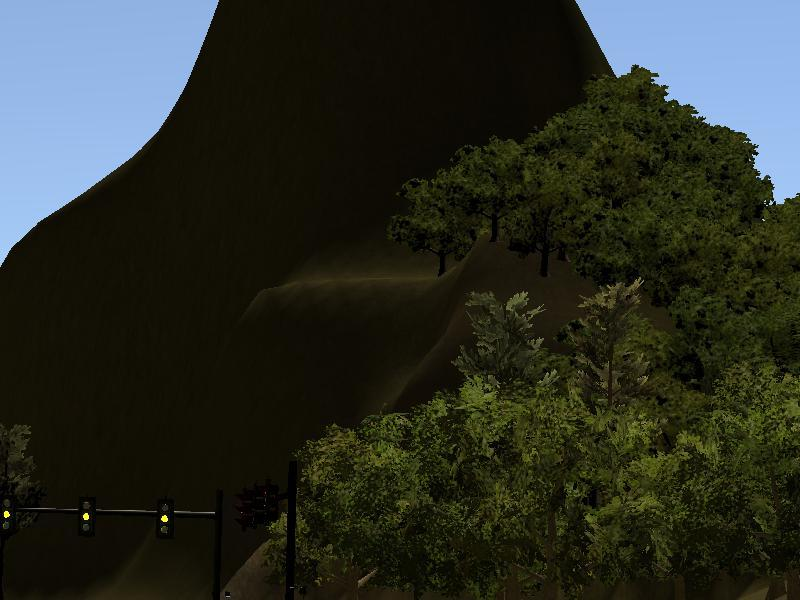Yellow: (155, 500, 175, 539), (78, 498, 95, 536), (1, 497, 16, 535)
